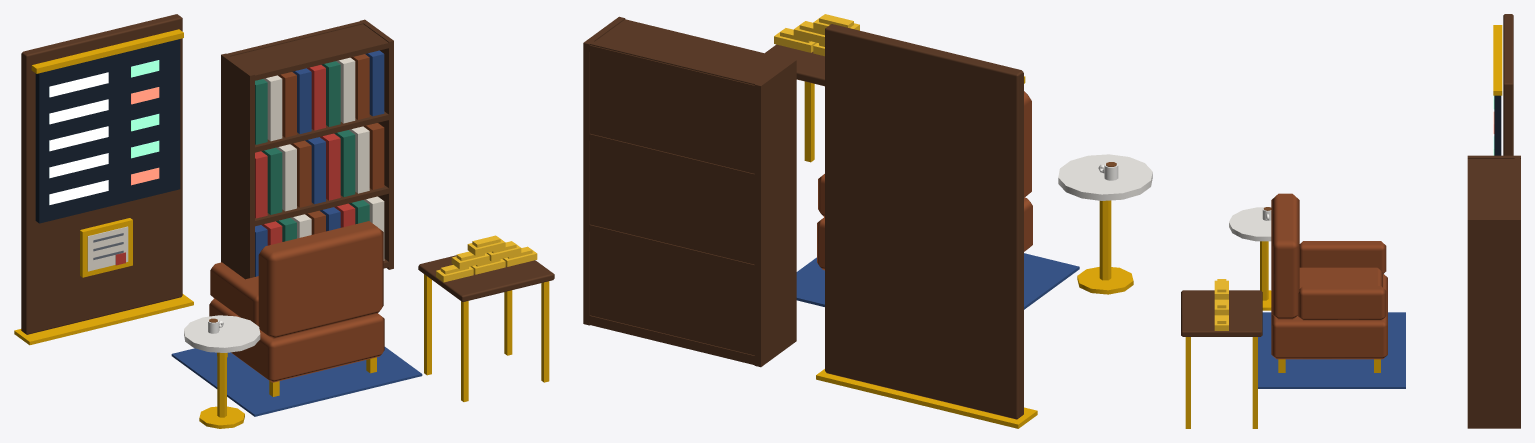
Rendered from station_processing_2.glb.
3 views of the same model, side by side, from view 1: azimuth 30°, elevation 25°; view 2: azimuth 150°, elevation 25°; view 3: azimuth 270°, elevation 25° (orthographic). The views are drawn at different scales.
Parts seen in each view (by area): view 1: station_processing_2; view 2: station_processing_2; view 3: station_processing_2.
Boxes of the visible parts, x1=… form: station_processing_2: x1=14, y1=14, x2=554, y2=428; station_processing_2: x1=583, y1=14, x2=1152, y2=428; station_processing_2: x1=1181, y1=14, x2=1520, y2=428.
Size of the model in its own units: 2.13 by 1.62 by 1.92.
